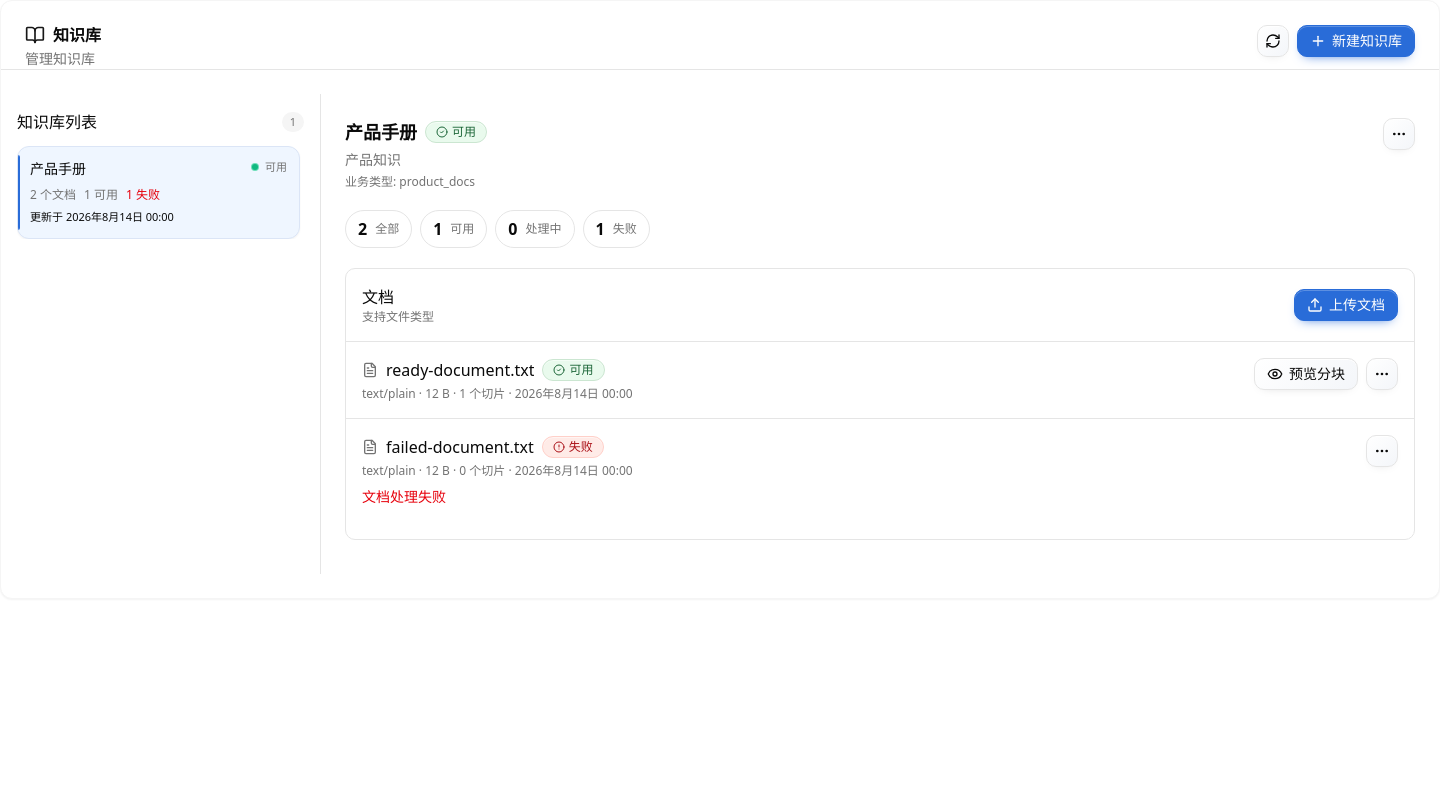
Test: KnowledgeBaseManager › 新建知识库 Escape 关闭后回创建按钮且不保存
This screenshot has width=1440, height=810.
Click the button "新建知识库" at coordinates (1356, 41), box [1297,25,1415,57]
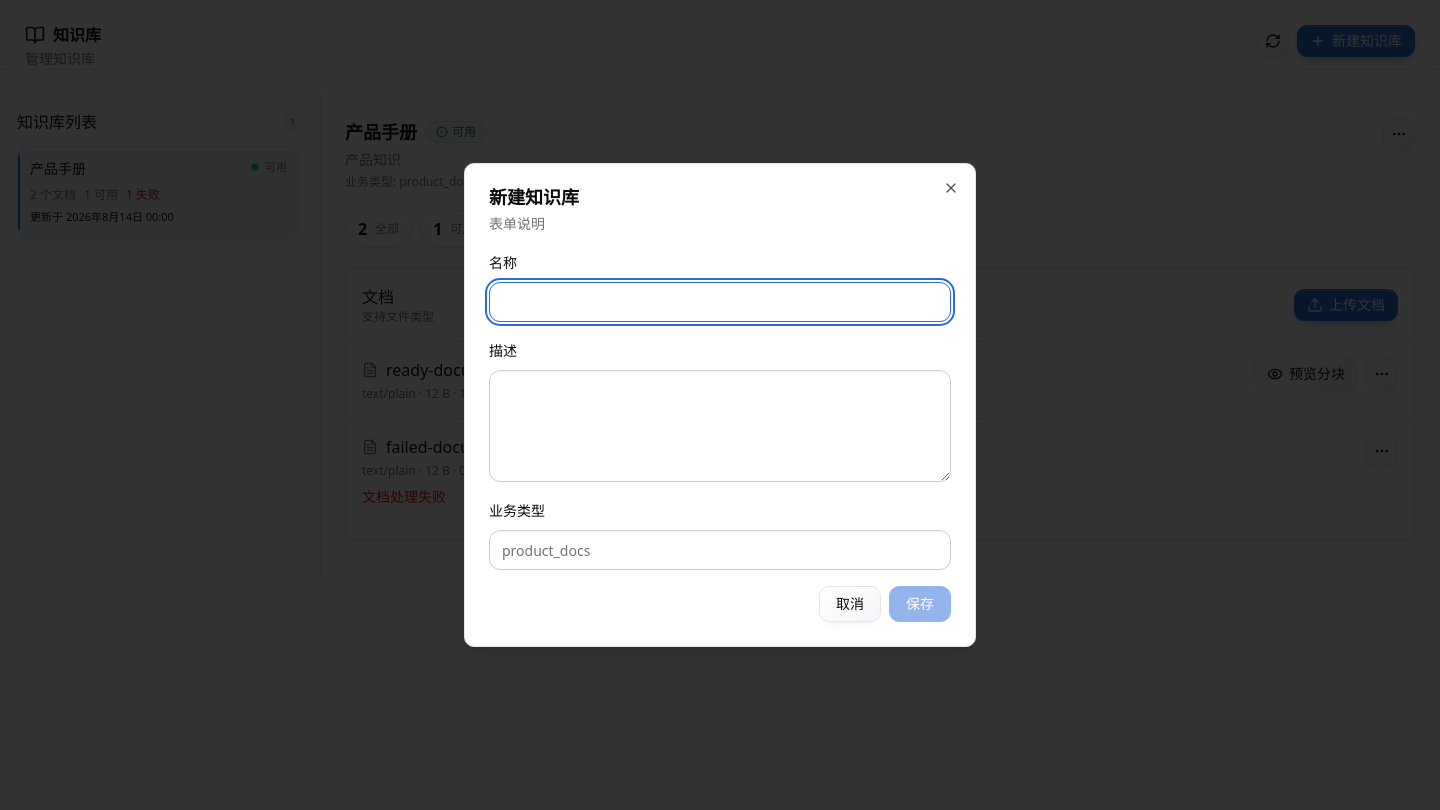
Press Escape
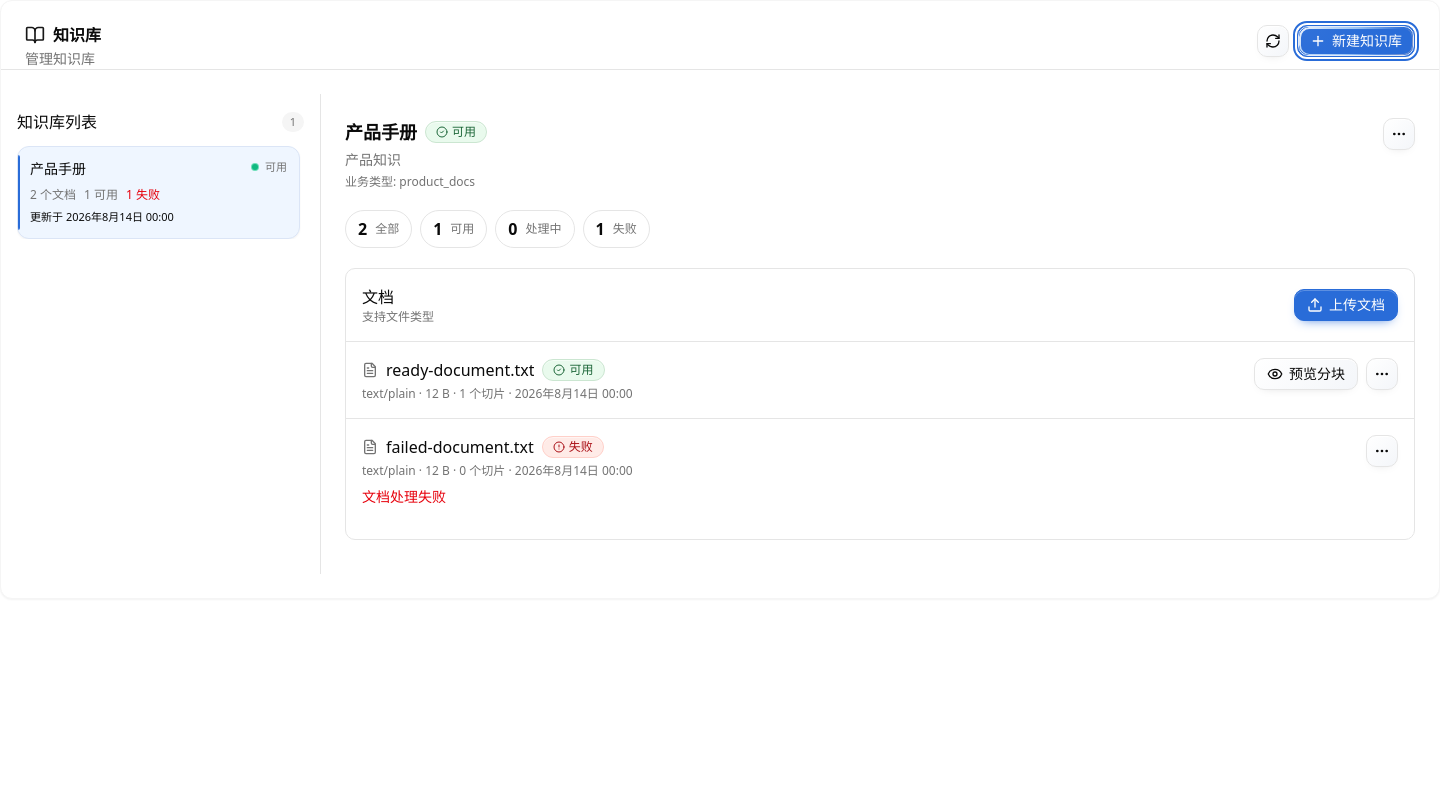
Expected: the dialog is gone
